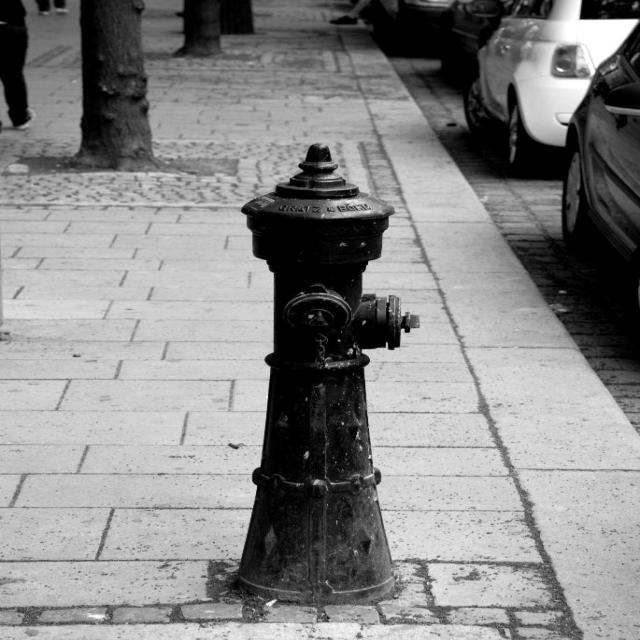fire_hydrant: (237, 141, 417, 604)
